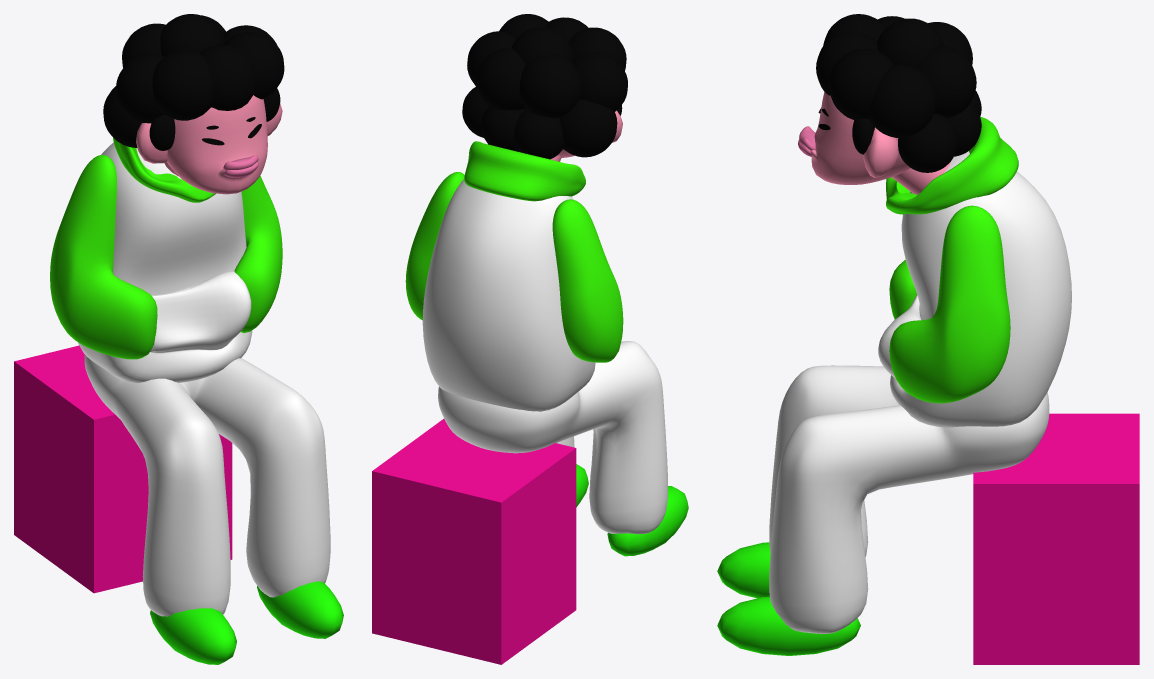
3 views of the same model, side by side, from view 1: azimuth 30°, elevation 25°; view 2: azimuth 150°, elevation 25°; view 3: azimuth 270°, elevation 25° (orthographic). The views are drawn at different scales.
Parts seen in each view (by area): view 1: pCube10, pCube9, pCube7, pCube11, hair, pCube1, pCube13, pCube12, pCube8; view 2: pCube9, pCube7, pCube10, hair, pCube11, pCube8, pCube13; view 3: pCube9, pCube10, pCube7, hair, pCube11, pCube1, pCube8, pCube12, pCube13.
Part boxes in pixels (x1,y1,x2,y2): pCube10: [84, 355, 330, 616]; pCube9: [14, 345, 232, 593]; pCube7: [78, 142, 252, 383]; pCube11: [50, 155, 282, 359]; hair: [103, 14, 284, 150]; pCube1: [136, 95, 282, 194]; pCube13: [150, 608, 236, 664]; pCube12: [257, 581, 343, 638]; pCube8: [113, 137, 215, 202]; pCube9: [372, 419, 576, 664]; pCube7: [422, 179, 595, 411]; pCube10: [438, 341, 667, 534]; hair: [462, 14, 627, 159]; pCube11: [405, 172, 623, 362]; pCube8: [464, 141, 585, 201]; pCube13: [607, 486, 688, 556]; pCube9: [973, 413, 1139, 664]; pCube10: [769, 365, 1049, 633]; pCube7: [878, 151, 1071, 427]; hair: [816, 14, 981, 172]; pCube11: [889, 205, 1010, 403]; pCube1: [810, 92, 950, 194]; pCube8: [886, 117, 1018, 214]; pCube12: [717, 596, 860, 655]; pCube13: [717, 542, 770, 598].
Bounding box in the file's own units: 0.4732 × 1.21 × 0.7618.
